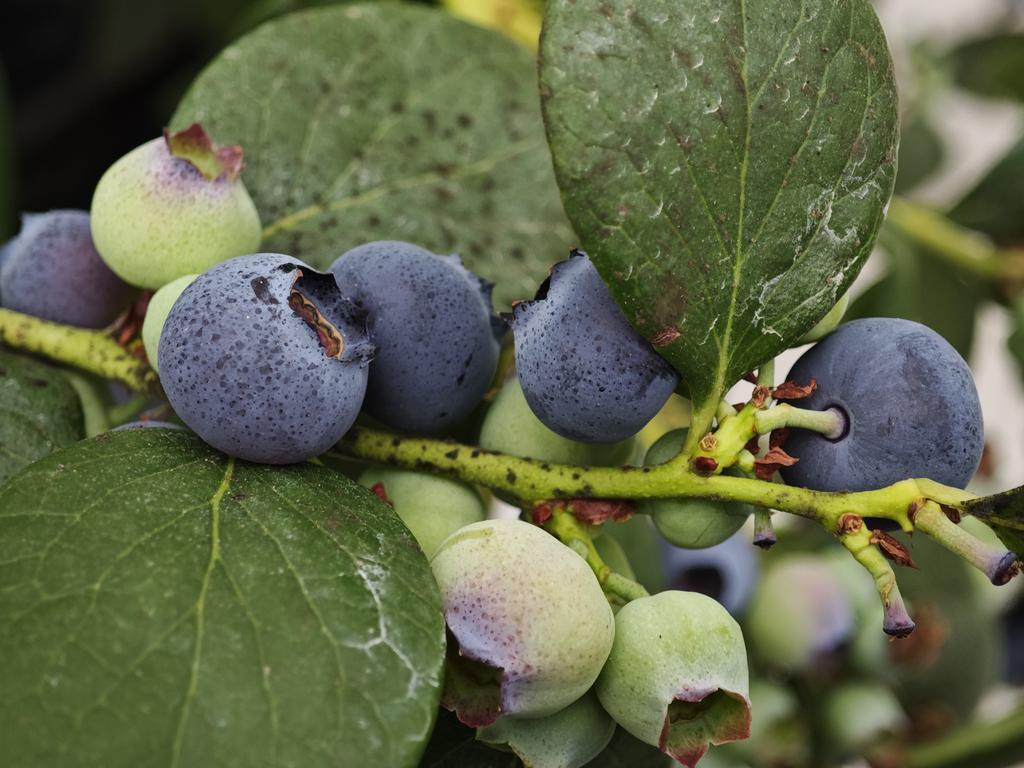RipeBlueBerry: (158, 257, 364, 461), (783, 316, 987, 514)
UnripeBlueBerry: (422, 522, 611, 724), (596, 593, 751, 761), (96, 137, 262, 287)
